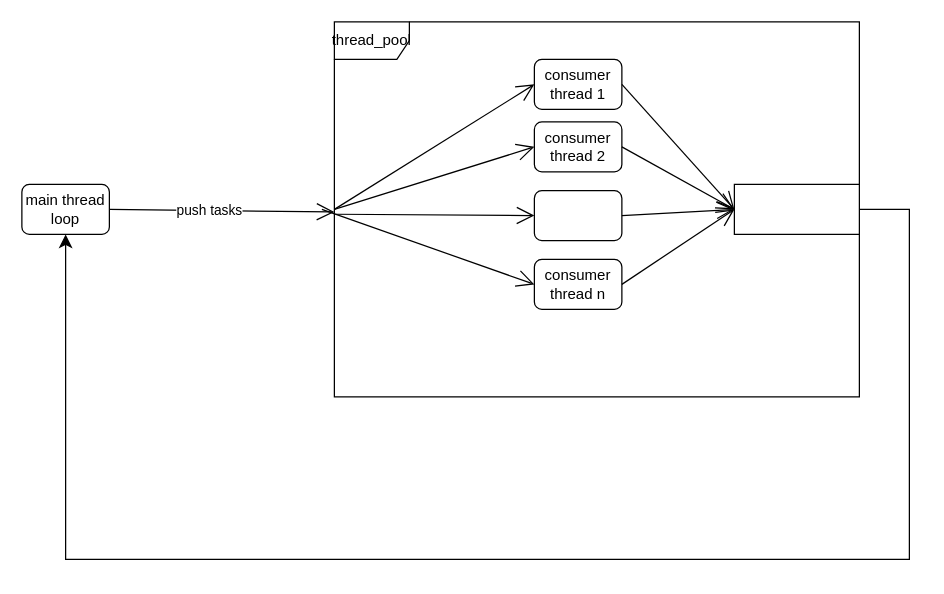
Some shapes in this 944 by 594 pixel diagram are drawn without their labels. The shapes that lost their labels are listed below. From the top down, each one's centre as x and y in pixels, then its label:
point (577, 215): consumer thread 3
point (796, 208): output buffer
